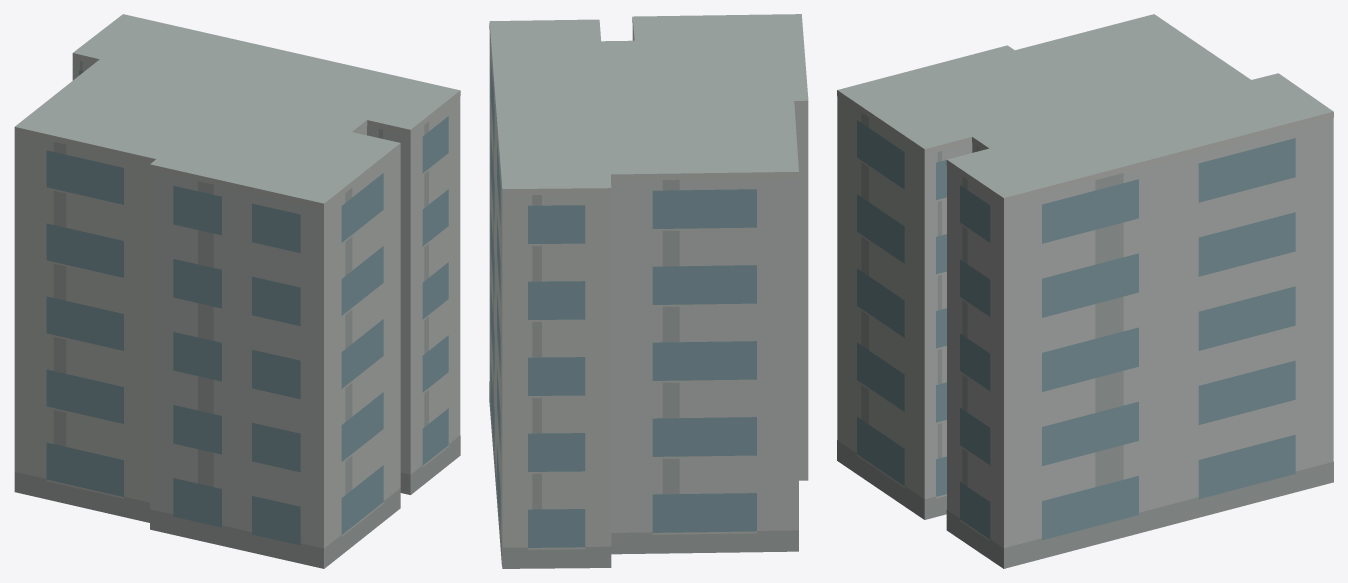
Rendered from survey-upis-33020037.glb.
The picture shows the model from 3 angles, left to right: view 1: azimuth 30°, elevation 25°; view 2: azimuth 150°, elevation 25°; view 3: azimuth 270°, elevation 25°; orthographic projection. The views are drawn at different scales.
Visible parts, largest first — view 1: survey-upis-33020037.tmp; view 2: survey-upis-33020037.tmp; view 3: survey-upis-33020037.tmp.
Boxes of the visible parts, x1,y1,x2,y2 form: survey-upis-33020037.tmp: [14, 14, 460, 568]; survey-upis-33020037.tmp: [489, 14, 808, 568]; survey-upis-33020037.tmp: [837, 14, 1333, 568].
Bounding box in the file's own units: 15.67 × 14.7 × 17.85.
